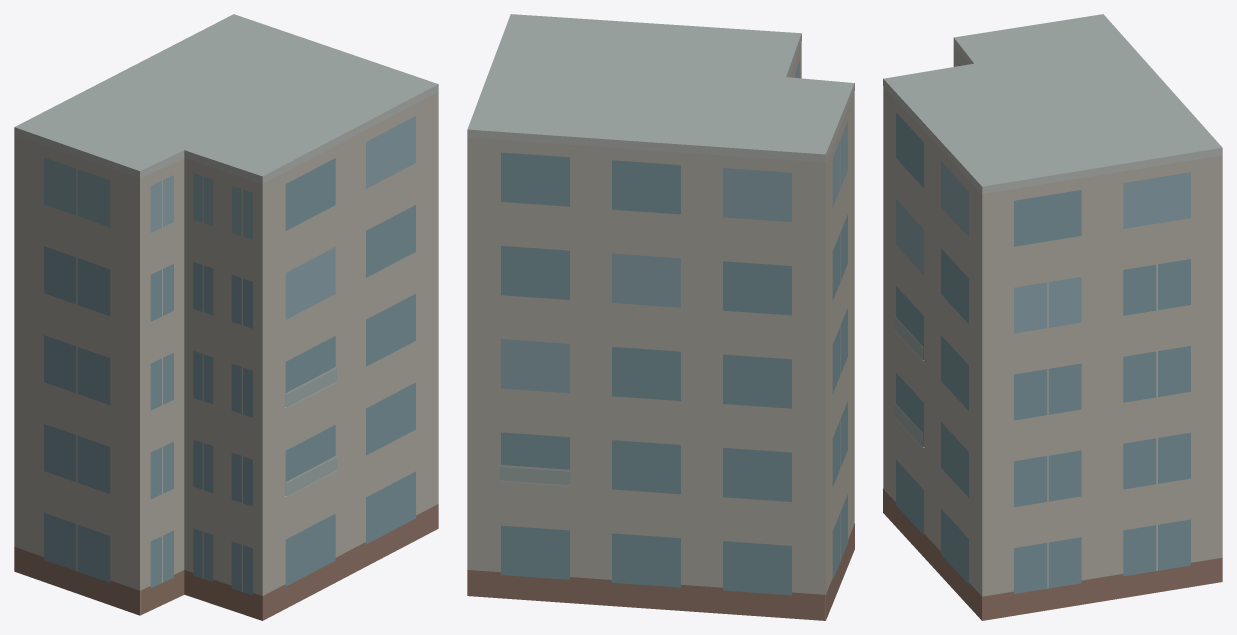
File: survey-upis-32975342.glb
3 renders of one model, left to right at view 1: azimuth 30°, elevation 25°; view 2: azimuth 150°, elevation 25°; view 3: azimuth 270°, elevation 25°, orthographic. The views are drawn at different scales.
Parts seen in each view (by area): view 1: survey-upis-32975342.tmp; view 2: survey-upis-32975342.tmp; view 3: survey-upis-32975342.tmp.
Part boxes in pixels (x1,y1,x2,y2): survey-upis-32975342.tmp: [14, 14, 438, 620]; survey-upis-32975342.tmp: [467, 14, 854, 620]; survey-upis-32975342.tmp: [883, 14, 1222, 620].
Bounding box in the file's own units: 12.08 × 14.15 × 10.03.
